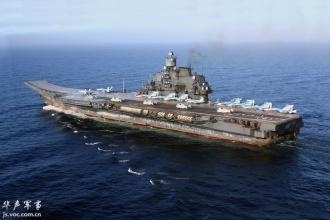warship: (23, 48, 298, 149)
